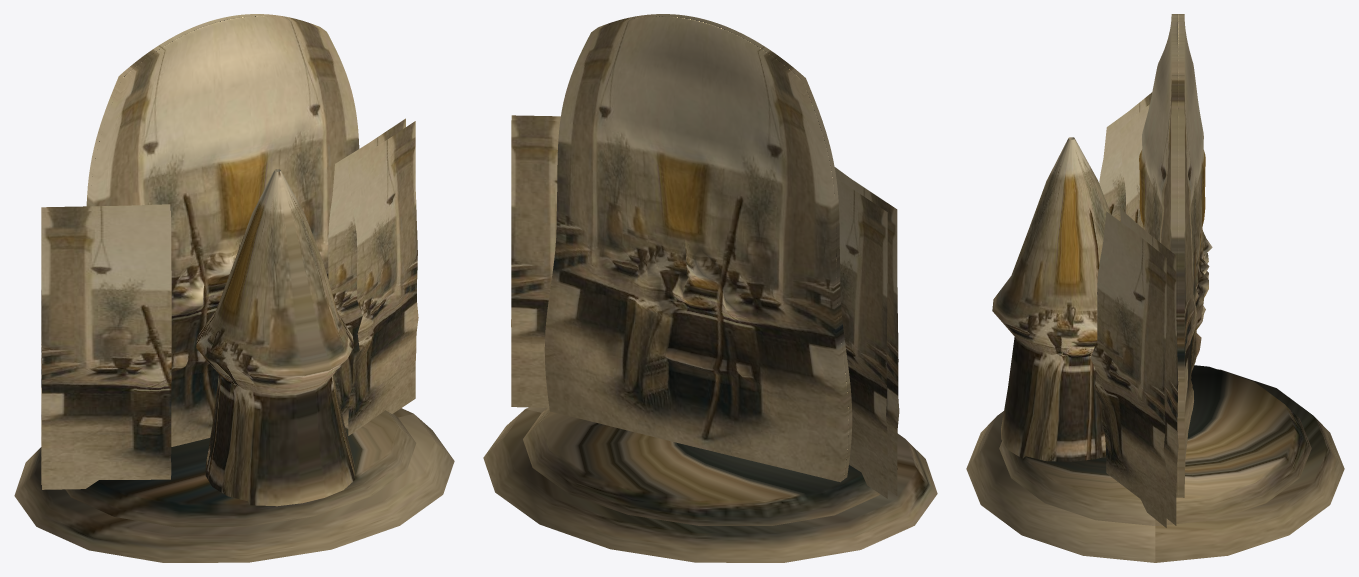
The model's file is samuel-30.glb.
3 renders of one model, left to right at view 1: azimuth 30°, elevation 25°; view 2: azimuth 150°, elevation 25°; view 3: azimuth 270°, elevation 25°, orthographic. The views are drawn at different scales.
Visible parts, largest first — view 1: PaintingSculptureMonument; view 2: PaintingSculptureMonument; view 3: PaintingSculptureMonument.
Boxes of the visible parts, box(x1,y1,x2,y2) form: PaintingSculptureMonument: box(14, 14, 454, 562); PaintingSculptureMonument: box(483, 14, 937, 562); PaintingSculptureMonument: box(966, 14, 1344, 562).
Bounding box in the file's own units: 2.76 × 2.99 × 2.35.
Materials: 1 (1 with a texture image).
